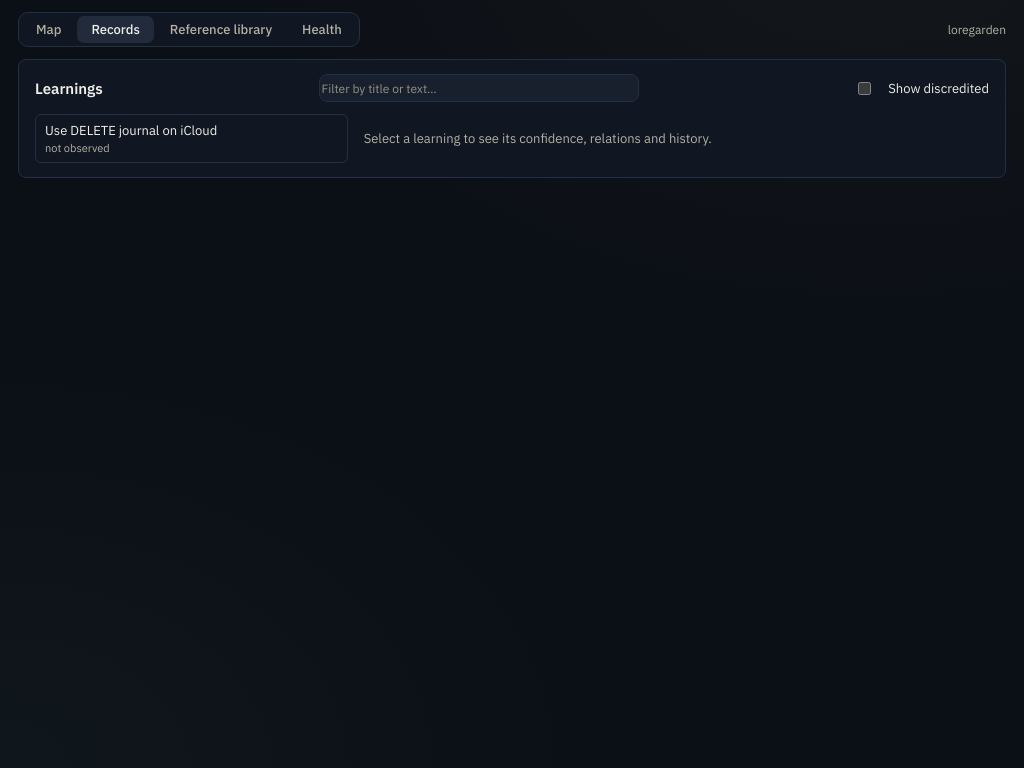
Test: discredits a learning only after a confirm step with a reason
The width and height of the screenshot is (1024, 768).
Step 1. Click the button "Use DELETE journal on iCloud not observed" → x=191, y=138, box [35, 114, 348, 163]
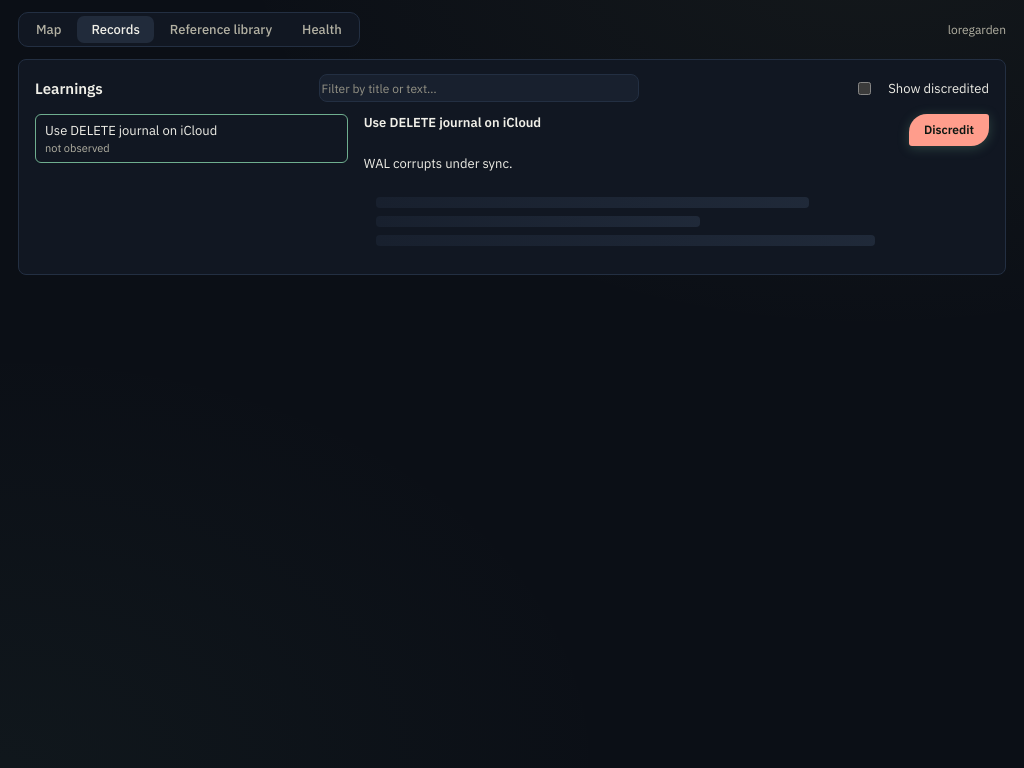
Step 2. Click the button "Discredit" → x=949, y=130, box [909, 114, 989, 146]
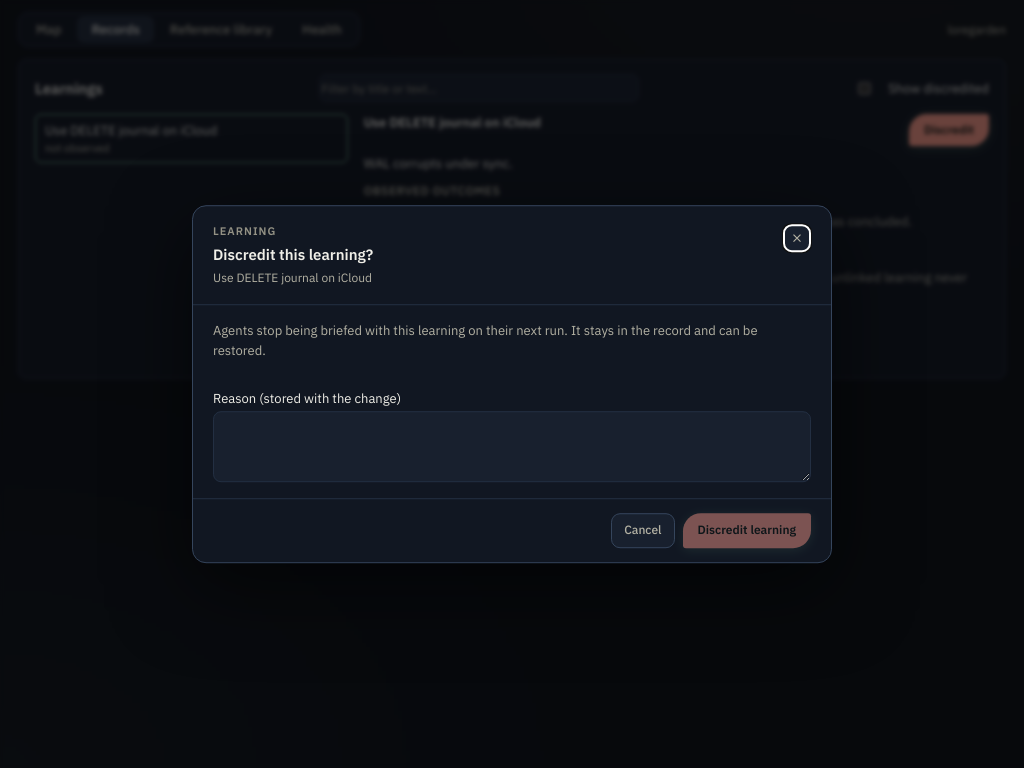
Check: the button "Discredit learning" is disabled, box [682, 513, 811, 548]
Step 3. Type "Wrong since 3.45" into the text box → x=512, y=447, box [213, 411, 811, 482]
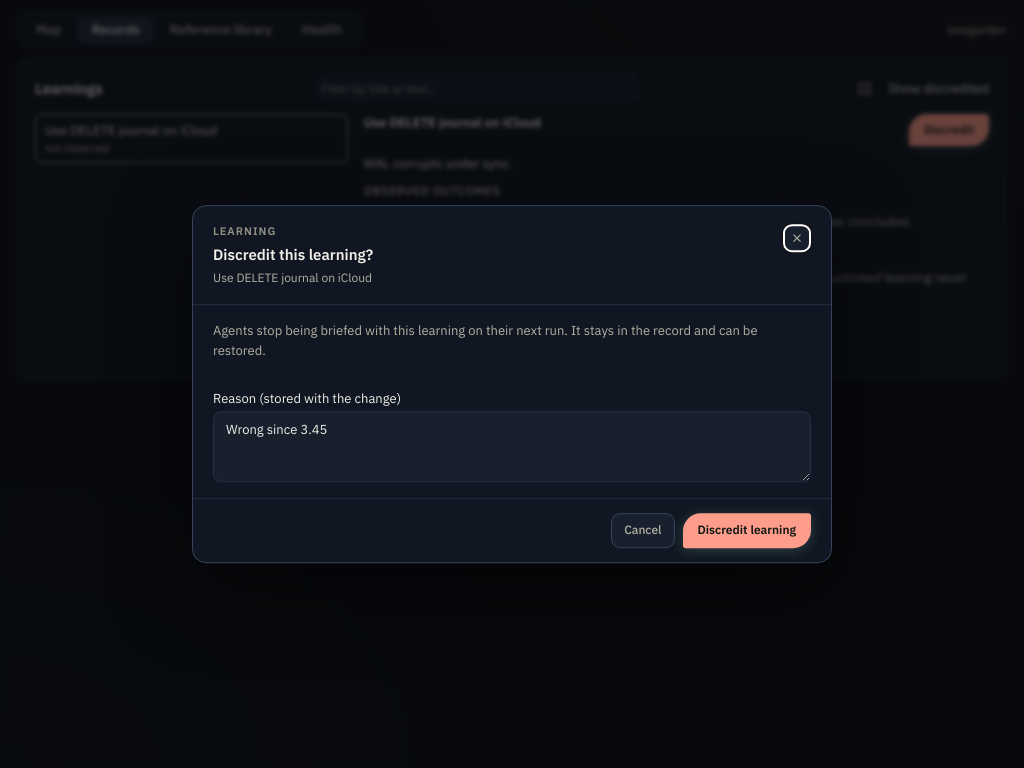
Step 4. Click the button "Discredit learning" → x=747, y=531, box [682, 513, 811, 548]
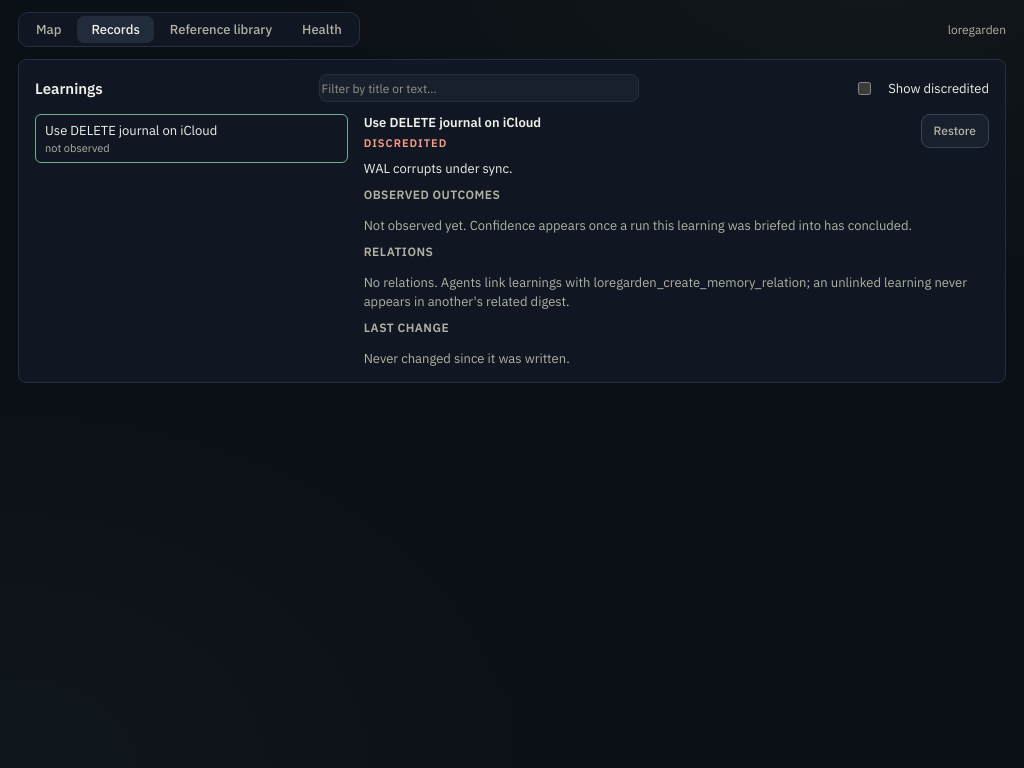
Check: the dialog is gone
Check: the button "Restore" is shown, box [920, 114, 989, 148]
